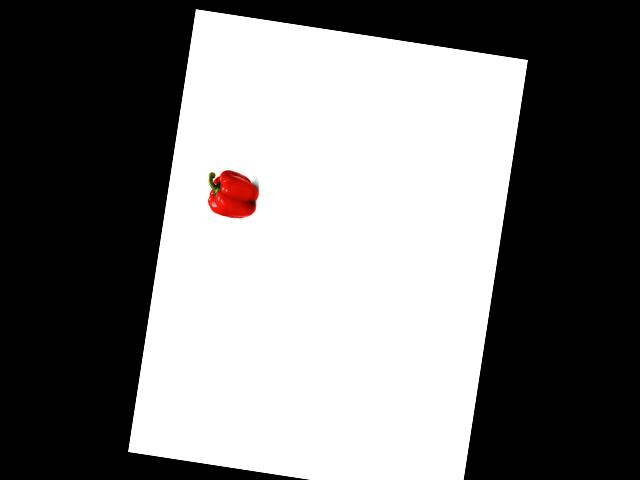bell_pepper: (202, 167, 262, 222)
